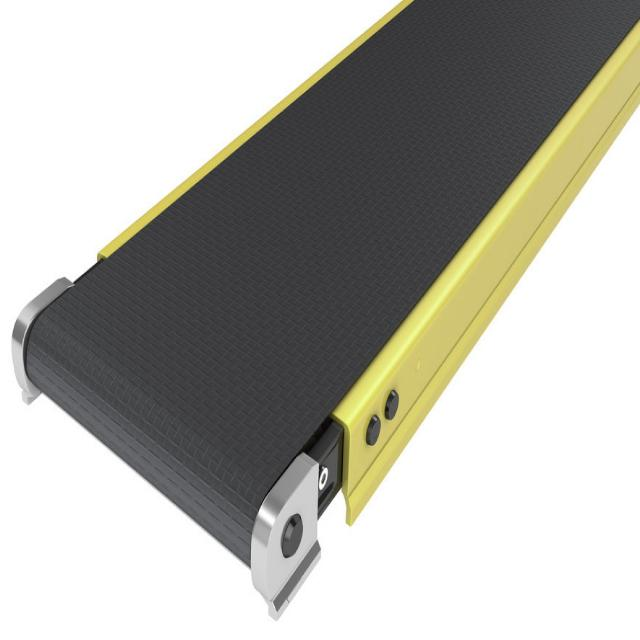conveyor: (8, 1, 640, 618)
